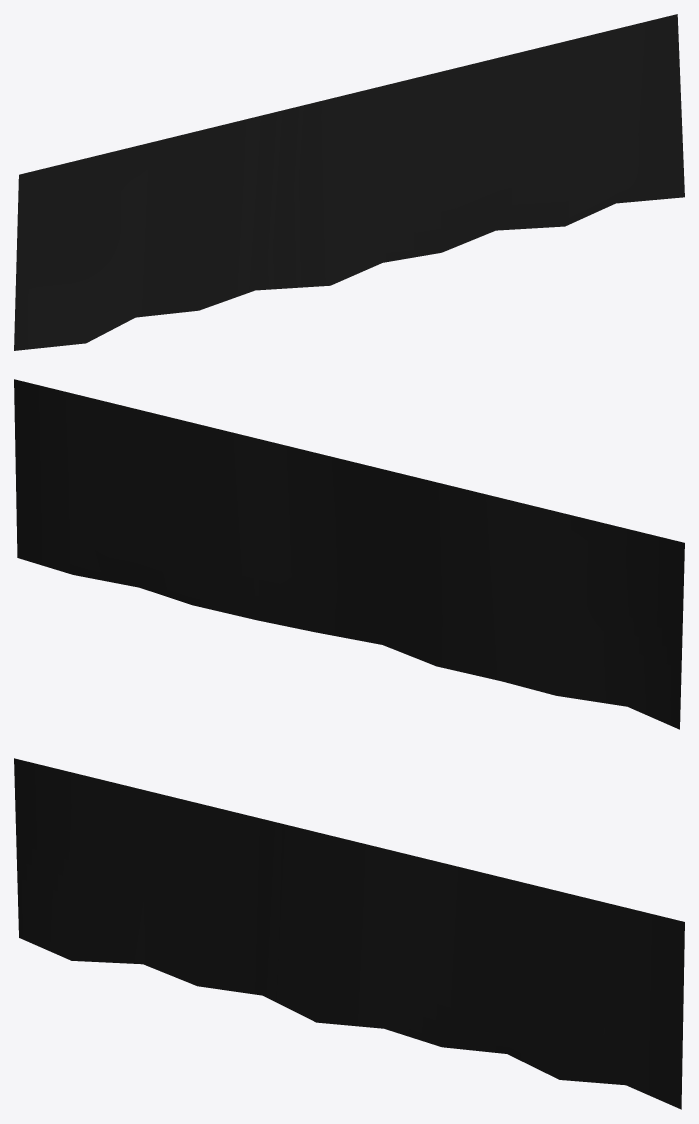
The model's file is Curtains_018.glb.
The picture shows the model from 3 angles, top to bottom: view 1: azimuth 30°, elevation 25°; view 2: azimuth 150°, elevation 25°; view 3: azimuth 330°, elevation 25°; orthographic projection.
Parts seen in each view (by area): view 1: Curtains_018; view 2: Curtains_018; view 3: Curtains_018.
Part boxes in pixels (x1=…): Curtains_018: x1=14, y1=14, x2=684, y2=350; Curtains_018: x1=14, y1=379, x2=684, y2=729; Curtains_018: x1=14, y1=758, x2=684, y2=1109.
Size of the model in its own units: 3 by 0.7805 by 0.0968.
1 material, 1 textured.
